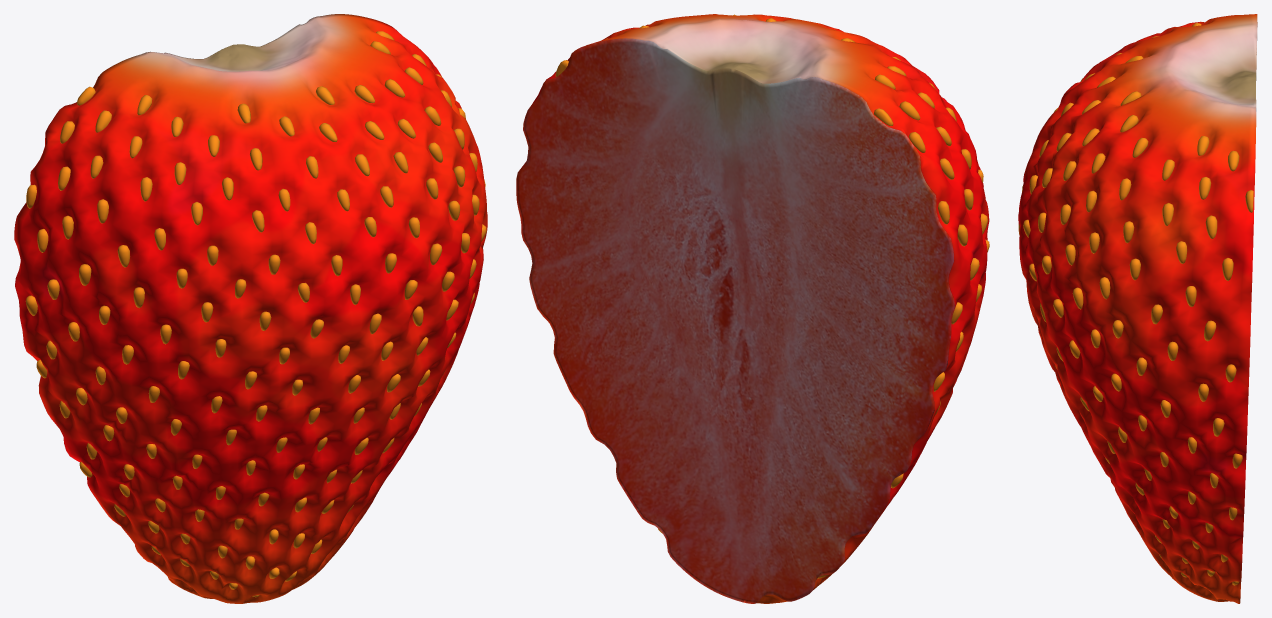
File: slicefresa.fbx
The picture shows the model from 3 angles, left to right: view 1: azimuth 30°, elevation 25°; view 2: azimuth 150°, elevation 25°; view 3: azimuth 270°, elevation 25°; orthographic projection. The views are drawn at different scales.
Visible parts, largest first — view 1: TS_Strawberry_001_Half; view 2: TS_Strawberry_001_Half; view 3: TS_Strawberry_001_Half.
Part boxes in pixels (x1,y1,x2,y2): TS_Strawberry_001_Half: (14, 14, 487, 603); TS_Strawberry_001_Half: (516, 14, 989, 603); TS_Strawberry_001_Half: (1018, 14, 1257, 603).
Bounding box in the file's own units: 23.44 × 28.23 × 11.56.
Materials: 3 (2 with a texture image).
